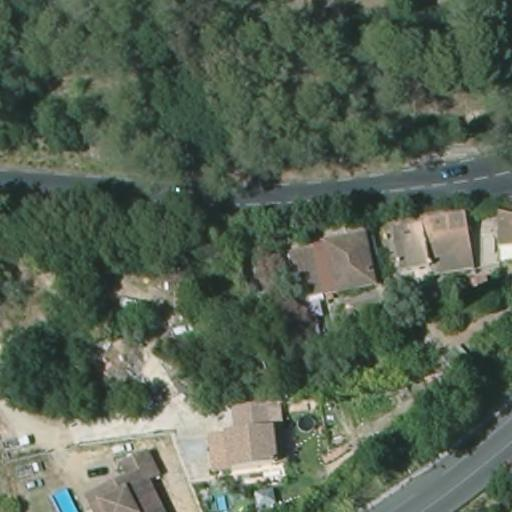pool: (48, 487, 78, 511), (215, 493, 230, 509)
